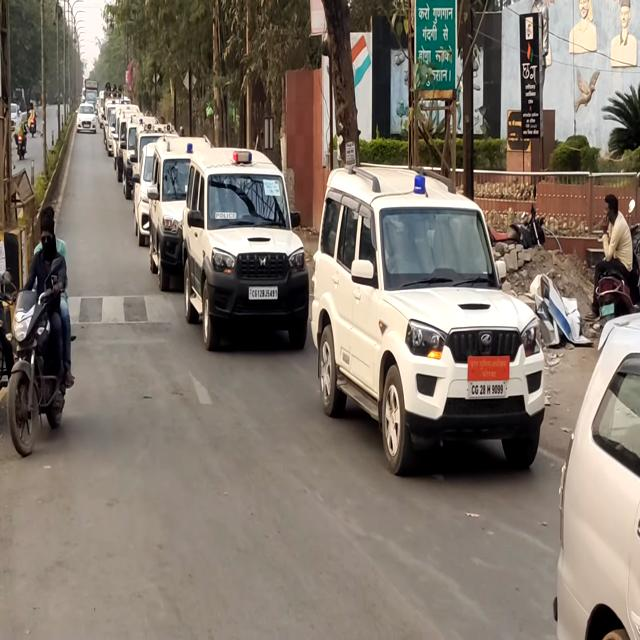emergency-vehicles: (311, 159, 553, 480), (183, 148, 320, 375), (124, 121, 212, 278)
